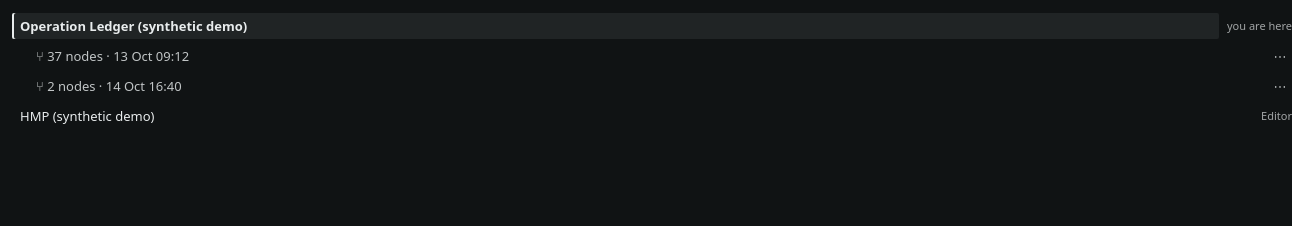
Scenario: CaseTree › says a refusal in words and keeps the branch
Click the button named "Actions for 2 nodes · 14 Oct 16:40" at {"x": 1280, "y": 86}, box [1268, 74, 1291, 98]
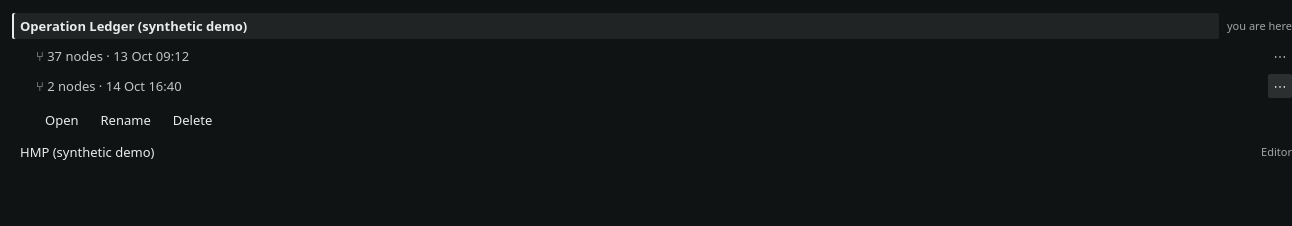
Click the button "Delete" at {"x": 193, "y": 120}, box [164, 104, 221, 136]
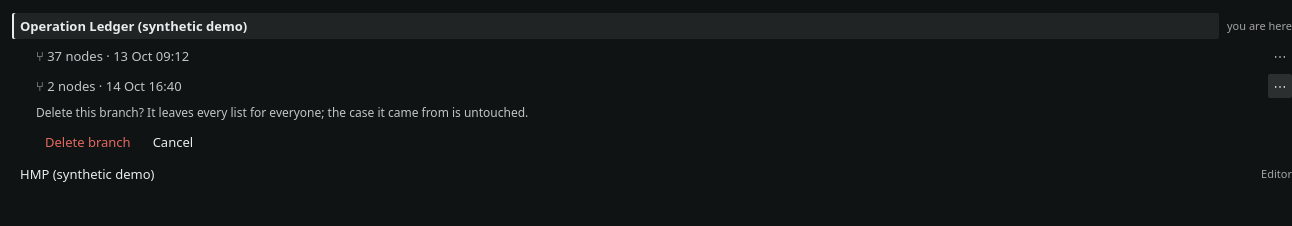
Click the button "Delete branch" at {"x": 88, "y": 142}, box [36, 126, 140, 158]
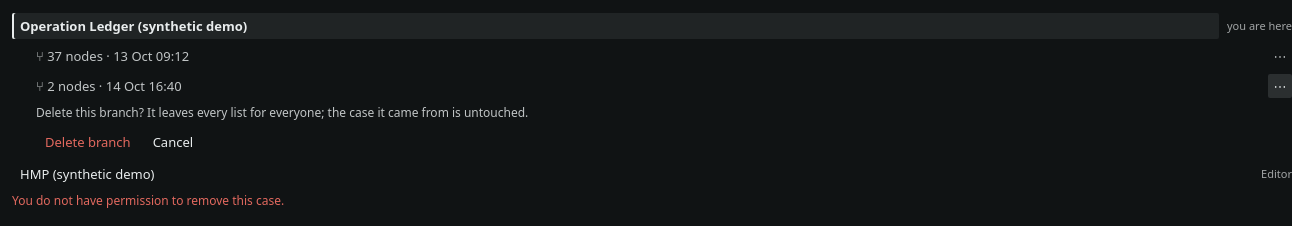
Expected: the button "⑂ 2 nodes · 14 Oct 16:40" is shown, [28, 73, 1252, 99]
Expected: the message reads "You do not have permission to remove this case.", [12, 192, 284, 209]
